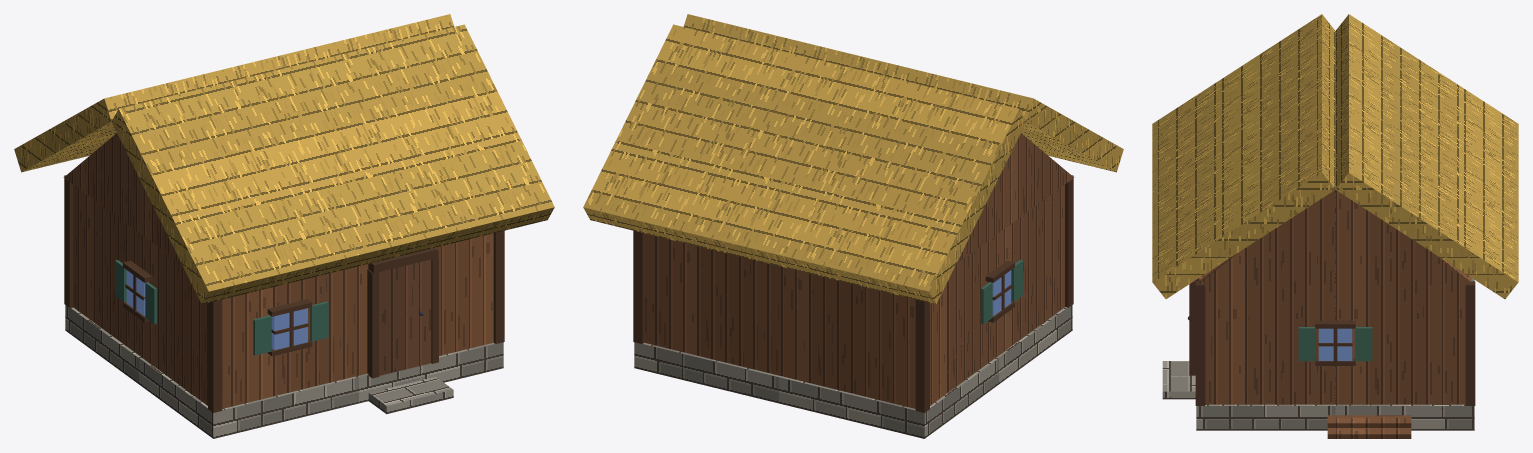
File: house_c.glb
3 views of the same model, side by side, from view 1: azimuth 30°, elevation 25°; view 2: azimuth 150°, elevation 25°; view 3: azimuth 270°, elevation 25° (orthographic). The views are drawn at different scales.
Parts seen in each view (by area): view 1: House_C; view 2: House_C; view 3: House_C.
Part boxes in pixels (bbox=[...]): House_C: bbox=[14, 14, 554, 438]; House_C: bbox=[583, 14, 1123, 438]; House_C: bbox=[1152, 14, 1518, 438].
Bounding box in the file's own units: 6.2 × 4.93 × 6.04.
Materials: 8 (4 with a texture image).
